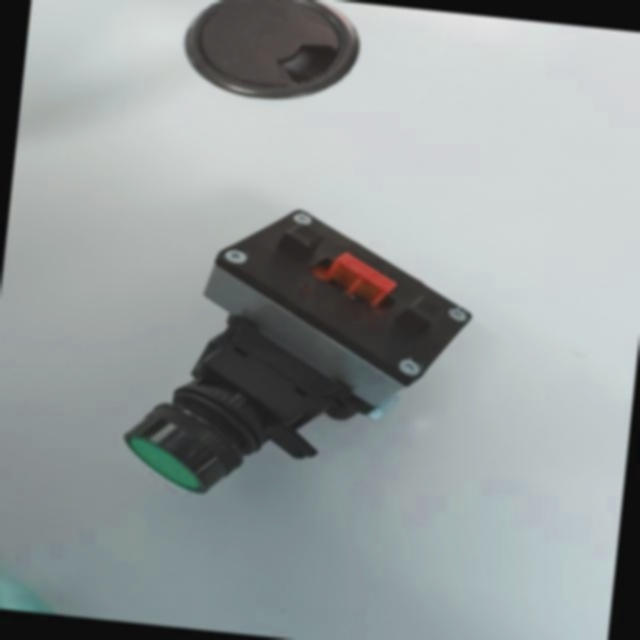push button: (118, 191, 482, 520)
